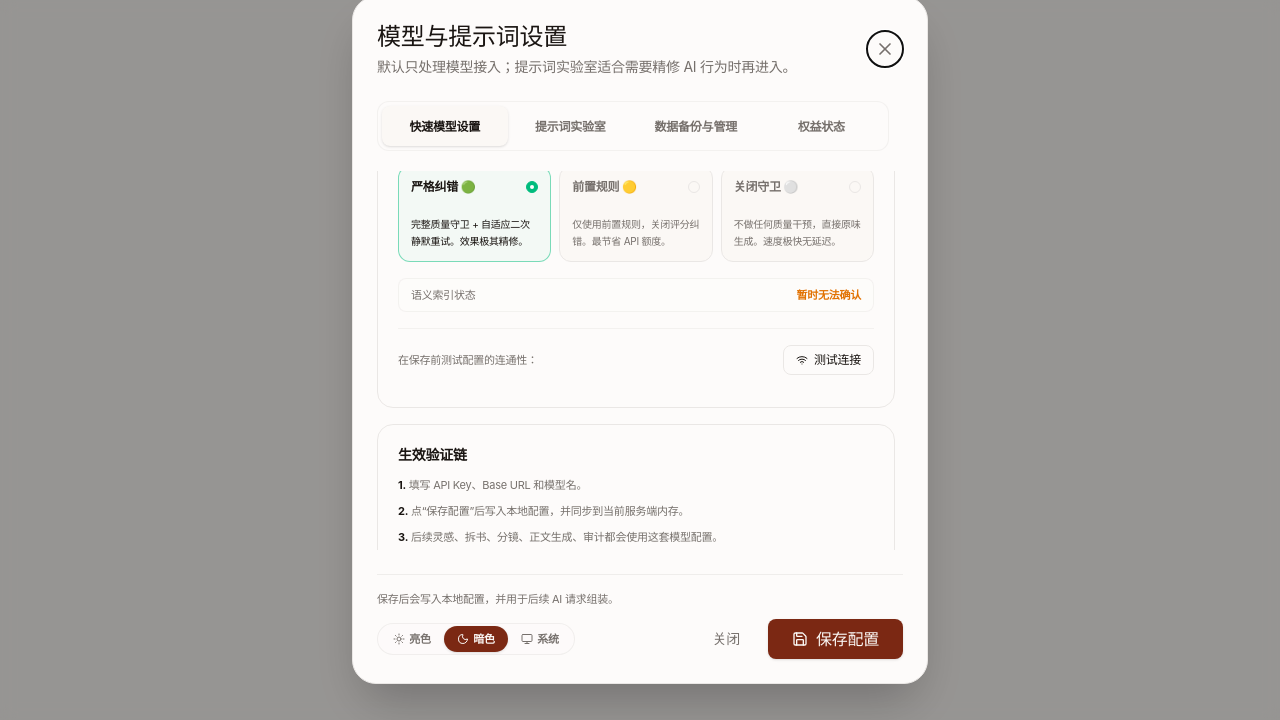
SettingsModal Model Discovery › changing API Key while testing re-enables the button
(page scrolled)
// Click test connection
Click the button "测试连接": point(828, 360) [783, 345, 874, 375]
(page scrolled)
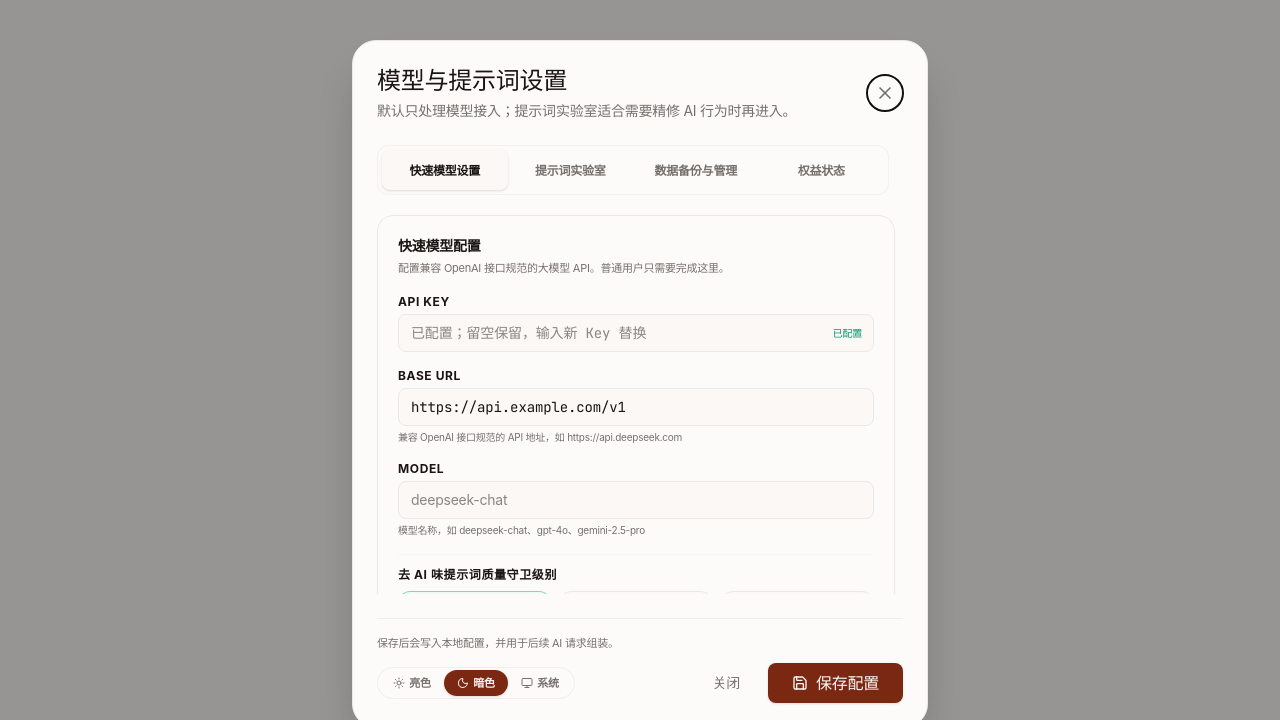
Check: the password field with placeholder "已配置；留空保留，输入新 Key 替换" is shown
In the password field with placeholder "已配置；留空保留，输入新 Key 替换": point(636, 333) [398, 314, 874, 352], type "new-key"
(page scrolled)
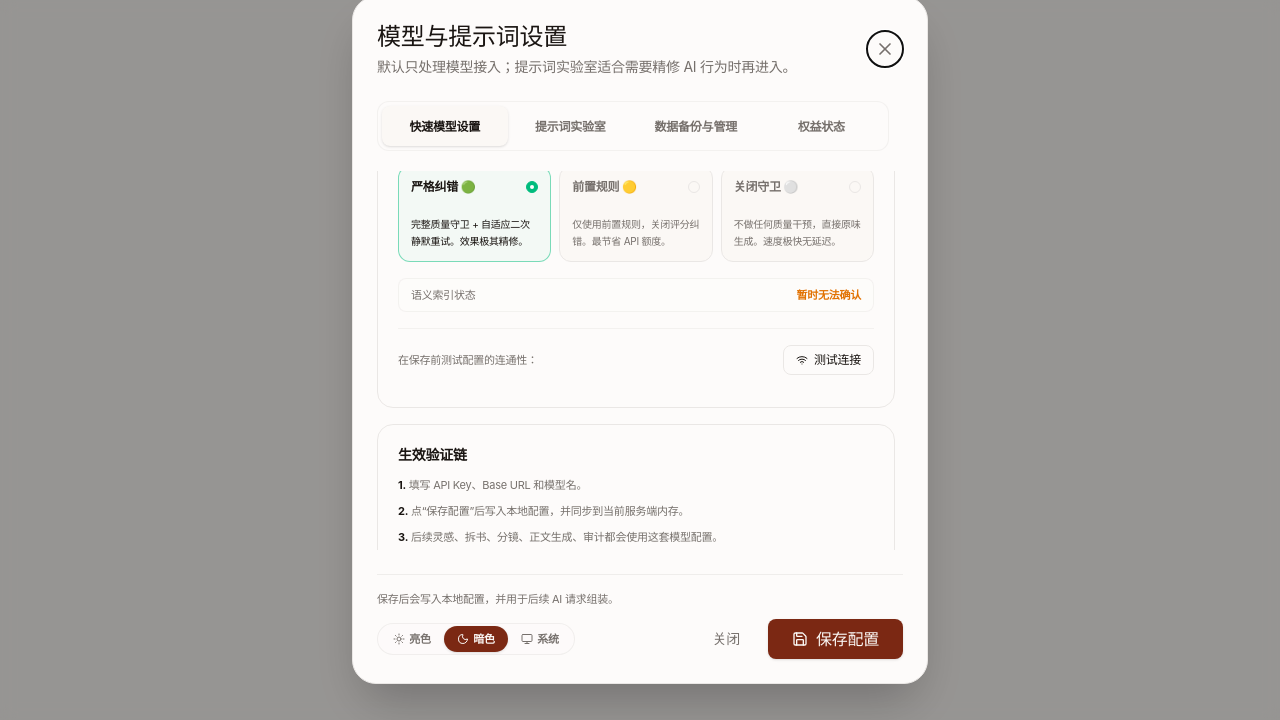
Check: the button "测试连接" is enabled, box [783, 345, 874, 375]
